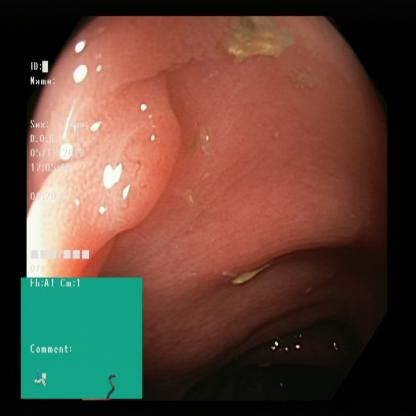Labels: (21, 51, 145, 400)
Polyps: (49, 68, 178, 228)
